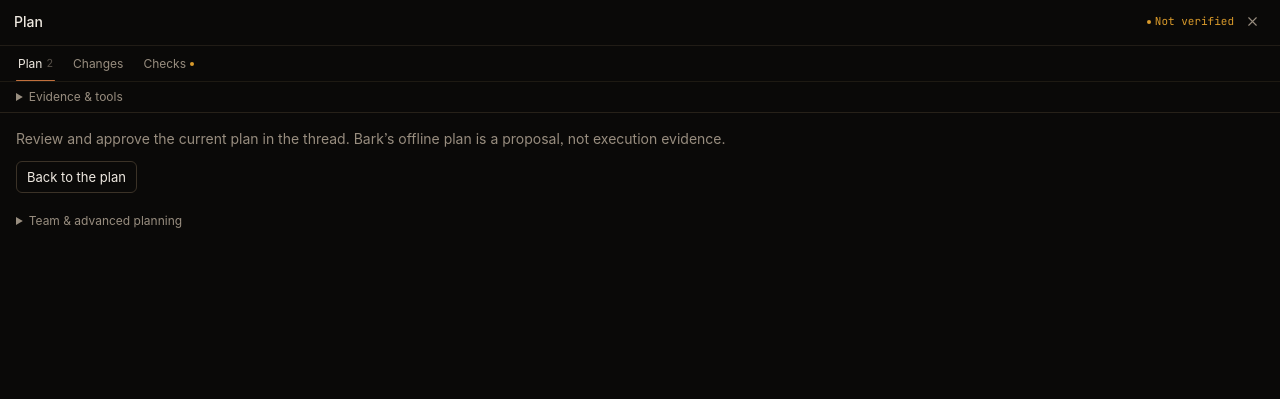
it: InspectorPane › opens on the plan, then loads the diff for the current task
Click the tab "Changes" at (98, 64), box [63,46,133,81]
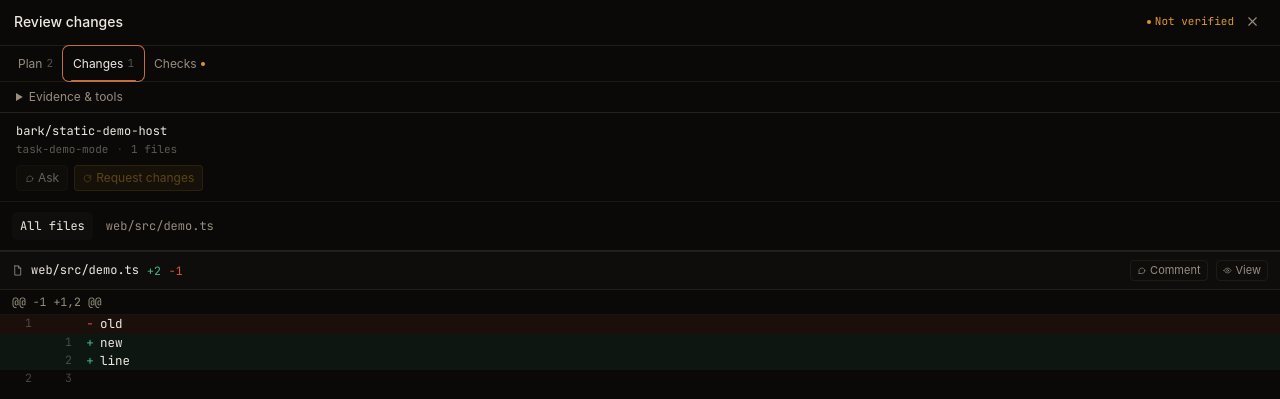
Result: the text "bark/static-demo-host" is shown at [16,123,167,139]
Result: the navigation bar named "Changed files" shows "web/src/demo.ts" at [98,212,222,240]
Result: the text "+2" is shown at [147,263,161,279]
